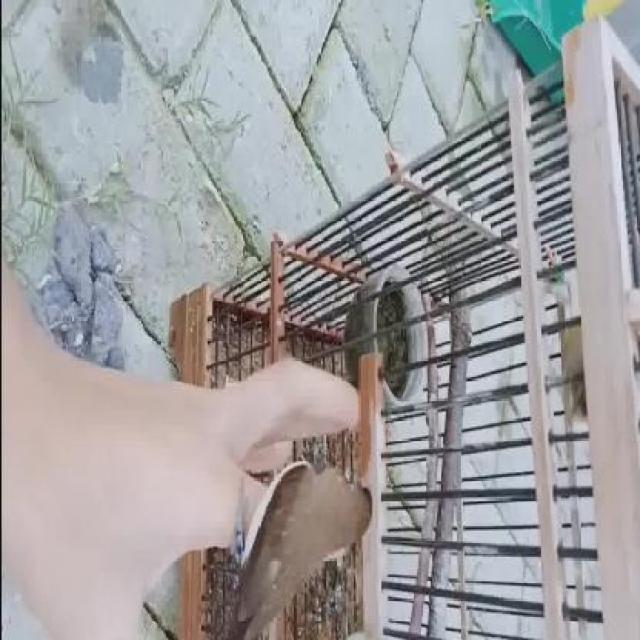Bird: (242, 424, 387, 640)
